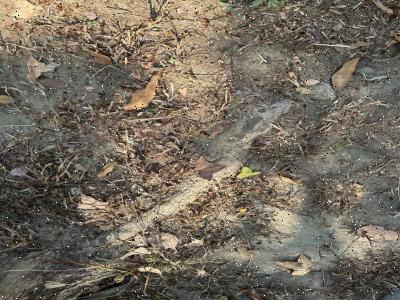Root: (97, 100, 292, 243)
